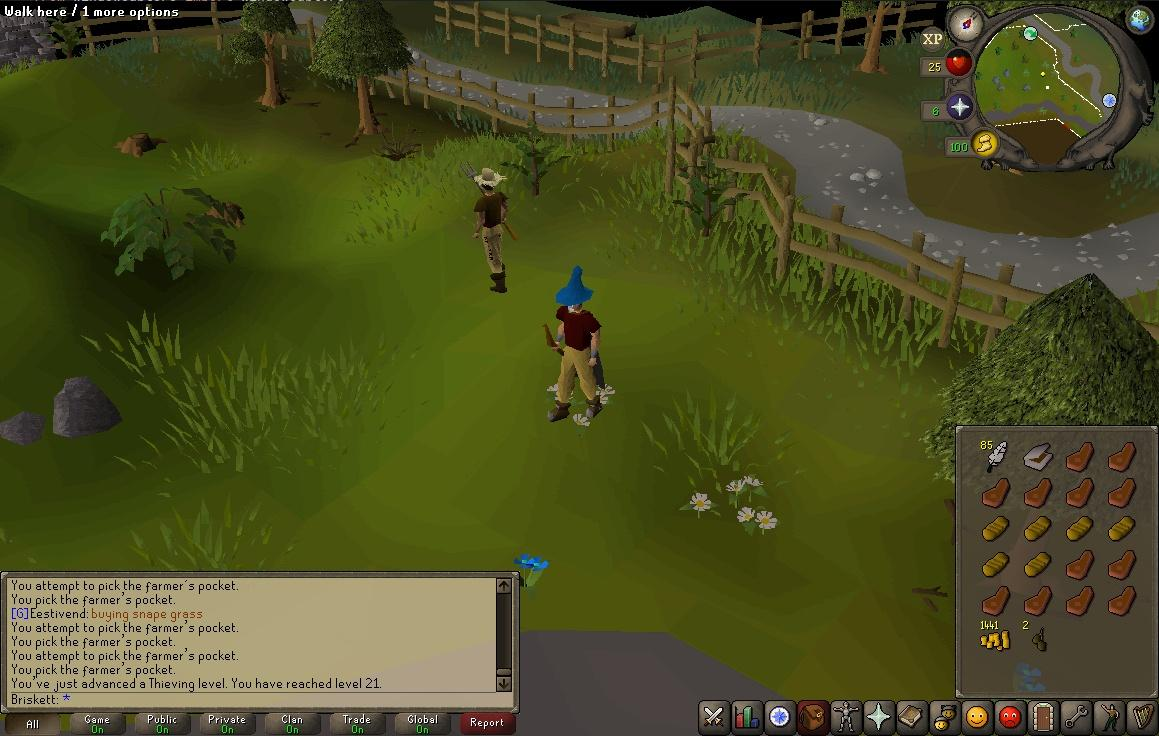Farmer: (472, 167, 519, 294)
